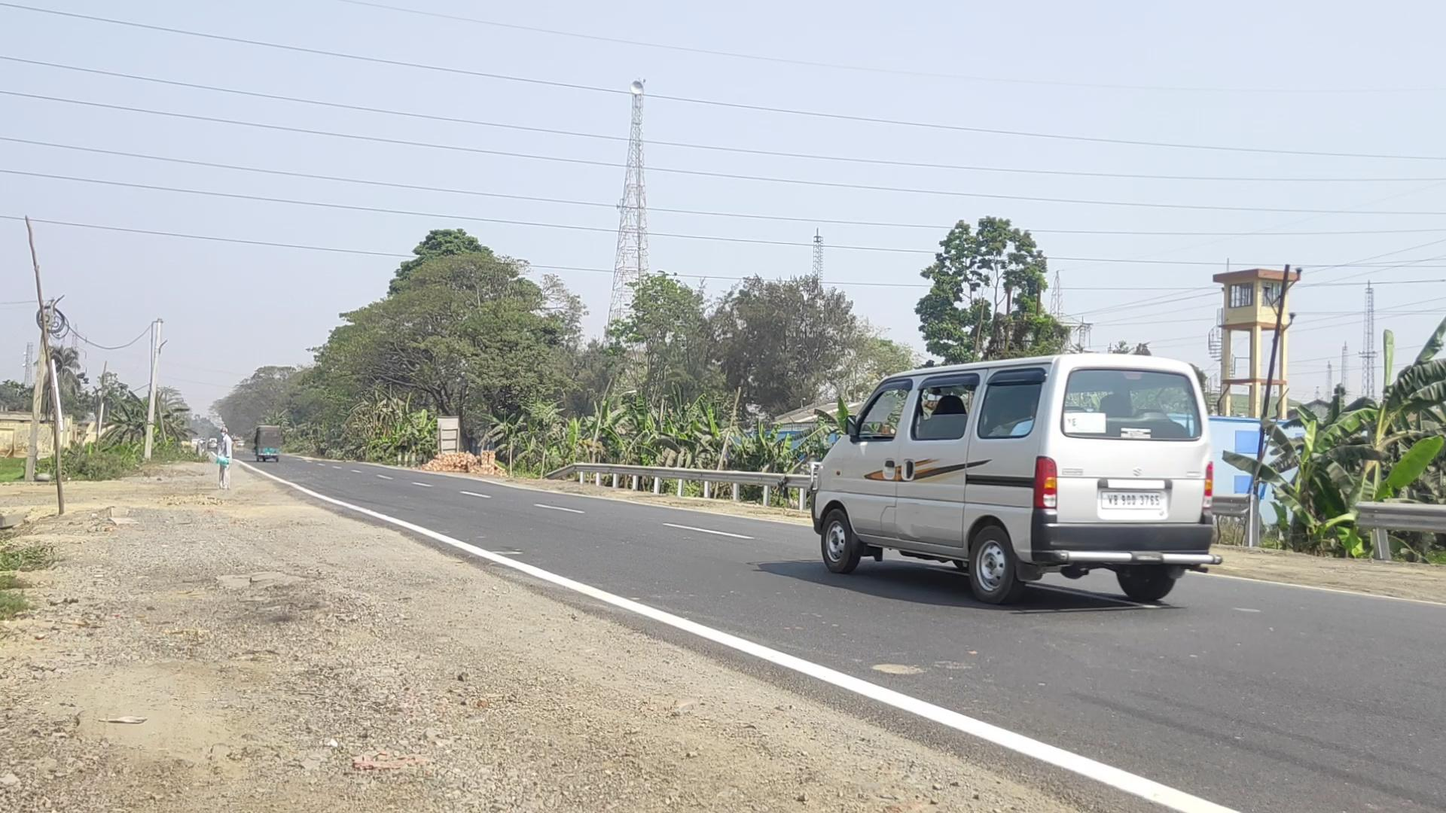Auto: (255, 424, 283, 464)
van: (809, 352, 1224, 607)
